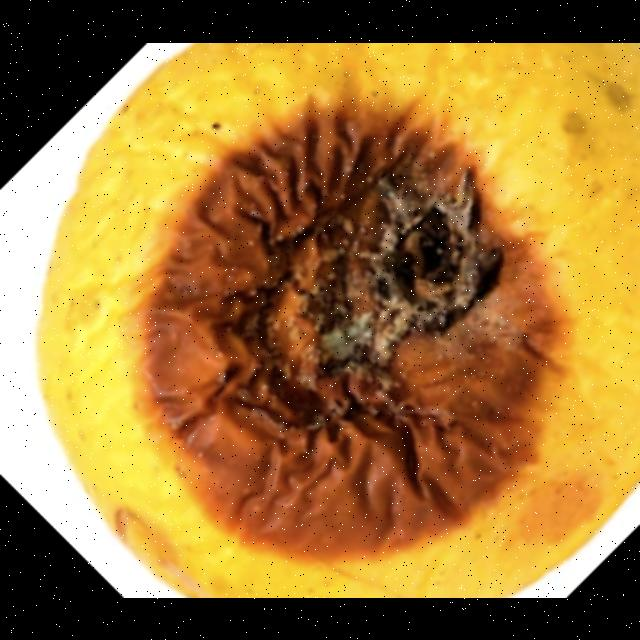Apel Tidak Segar: (56, 42, 640, 598)
